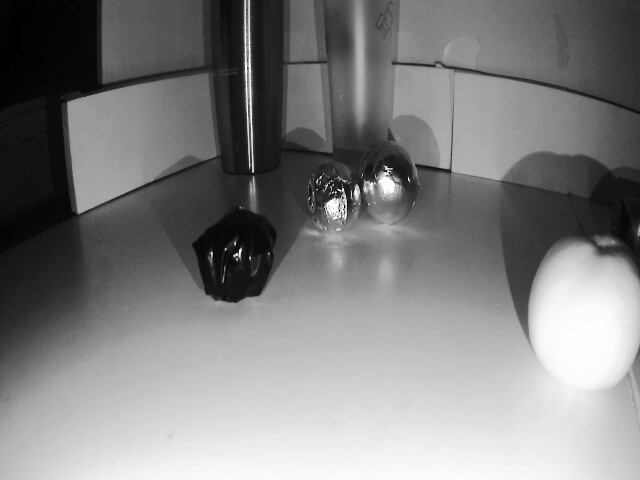black: (196, 213, 270, 304)
silver: (357, 142, 419, 224), (313, 165, 359, 236)
